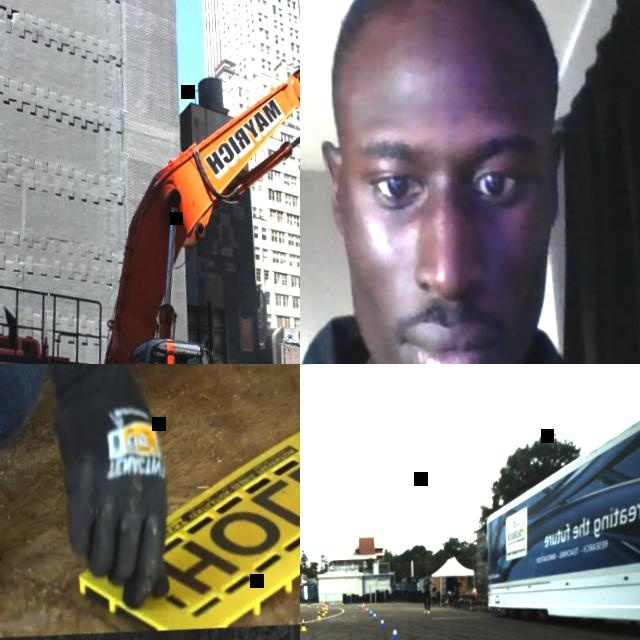NO-Hardhat: (320, 0, 561, 81), (425, 571, 429, 575), (472, 584, 476, 587), (456, 577, 458, 580), (449, 587, 451, 590), (446, 591, 448, 594)
NO-Mask: (347, 229, 560, 364)
NO-Safety Vest: (424, 578, 430, 590), (455, 589, 459, 597), (474, 589, 478, 596), (456, 581, 459, 590)
Person: (300, 0, 640, 364), (0, 364, 300, 618), (422, 570, 433, 613), (447, 585, 461, 608), (468, 583, 479, 608), (443, 591, 451, 603), (455, 577, 461, 590), (432, 590, 436, 605), (448, 588, 453, 596)
Safety Cone: (391, 624, 400, 640), (301, 619, 308, 631), (380, 616, 387, 627), (362, 600, 366, 610), (374, 611, 378, 620), (317, 610, 321, 619), (370, 608, 373, 616), (367, 606, 370, 613), (323, 608, 326, 615), (325, 607, 328, 613), (327, 603, 329, 612), (362, 603, 364, 609), (353, 602, 356, 606), (324, 604, 326, 609), (323, 603, 325, 608), (431, 588, 433, 593), (360, 603, 362, 607), (343, 602, 345, 606), (332, 602, 334, 606), (317, 603, 319, 607), (309, 603, 311, 607), (433, 591, 435, 595)
machinery: (0, 45, 300, 364)
